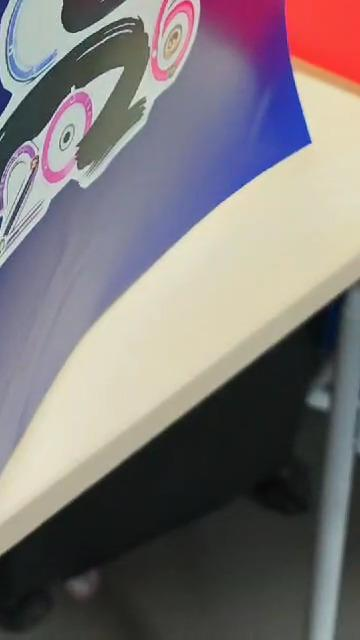B_R1: (0, 0, 283, 391)
